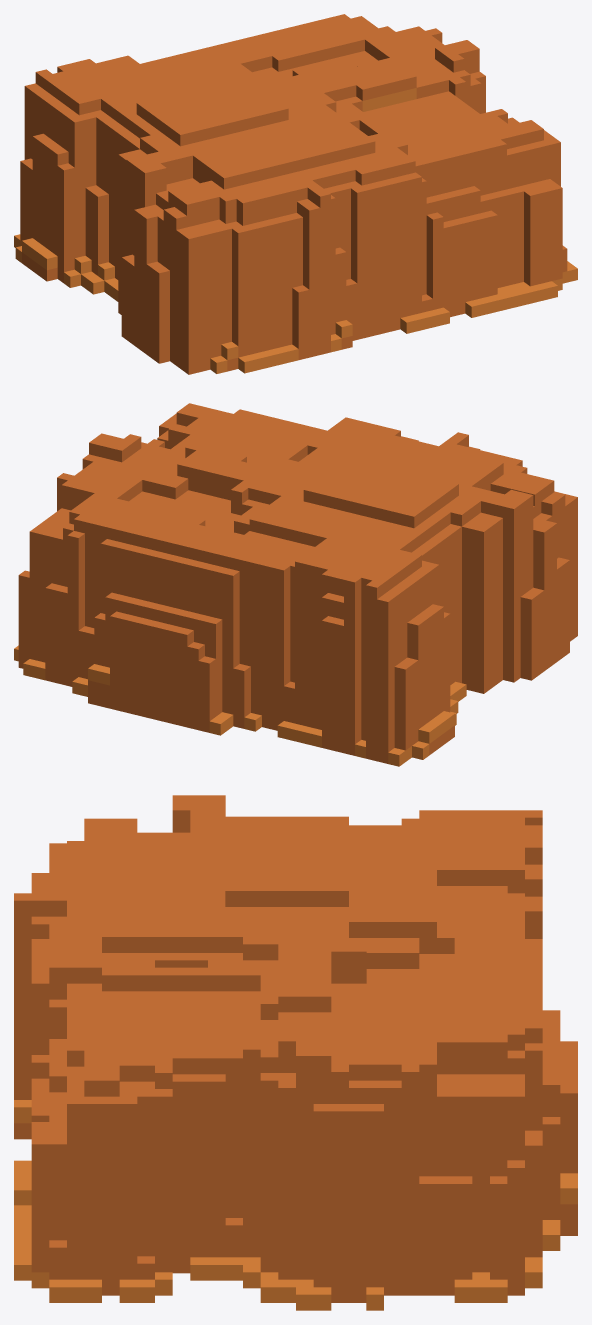
Rendered from Elm_5.obj.
The picture shows the model from 3 angles, top to bottom: view 1: azimuth 30°, elevation 25°; view 2: azimuth 150°, elevation 25°; view 3: azimuth 270°, elevation 25°; orthographic projection. The views are drawn at different scales.
Bounding box in the file's own units: 38 × 16 × 32.
1 material, 1 textured.
